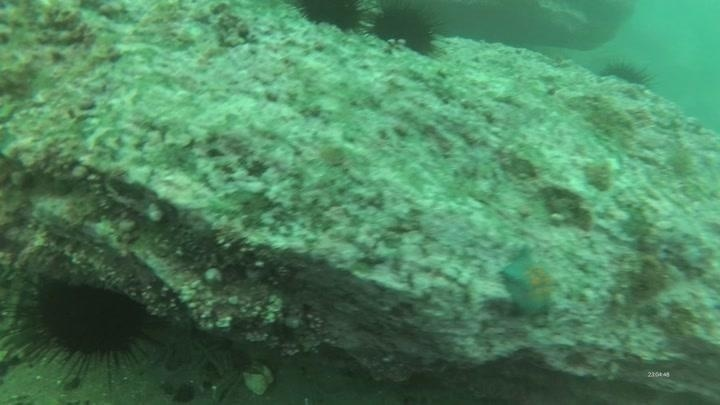echinus: (6, 270, 165, 382), (366, 1, 444, 58), (294, 1, 370, 34), (598, 56, 656, 92)
starfish: (497, 245, 561, 318)
